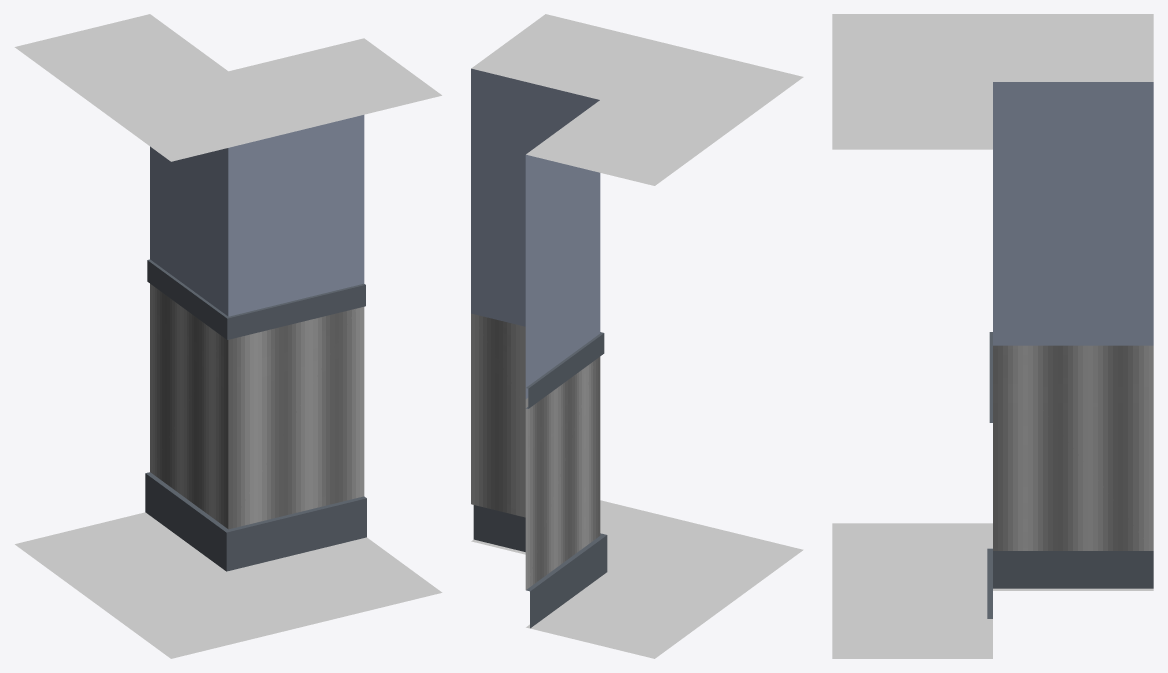
The model's file is roomA_wallCrnrOutr_mdl.fbx.
The picture shows the model from 3 angles, left to right: view 1: azimuth 30°, elevation 25°; view 2: azimuth 150°, elevation 25°; view 3: azimuth 270°, elevation 25°; orthographic projection. The views are drawn at different scales.
Parts seen in each view (by area): view 1: polySurface20, polySurface5, floorCentre_geo10; view 2: polySurface20, polySurface5, floorCentre_geo10; view 3: polySurface20, polySurface5, floorCentre_geo10.
Boxes of the visible parts, x1,y1,x2,y2 form: polySurface20: (145, 115, 366, 571); polySurface5: (14, 14, 441, 161); floorCentre_geo10: (15, 512, 442, 658); polySurface20: (471, 68, 607, 628); polySurface5: (471, 14, 803, 185); floorCentre_geo10: (471, 500, 803, 658); polySurface20: (987, 82, 1153, 618); polySurface5: (832, 14, 1153, 149); floorCentre_geo10: (832, 523, 1153, 658).
Bounding box in the file's own units: 2 × 3.5 × 2.
